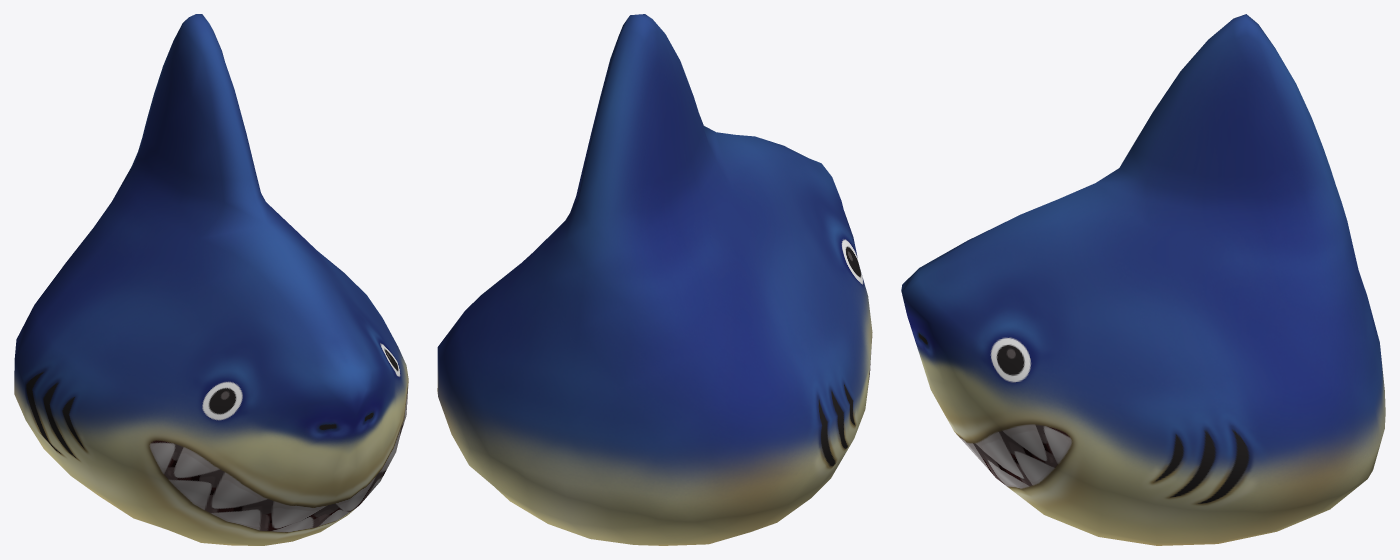
File: CRT0110002.FBX
The picture shows the model from 3 angles, left to right: view 1: azimuth 30°, elevation 25°; view 2: azimuth 150°, elevation 25°; view 3: azimuth 270°, elevation 25°; orthographic projection. The views are drawn at different scales.
Parts seen in each view (by area): view 1: smCRT0110002; view 2: smCRT0110002; view 3: smCRT0110002.
Part boxes in pixels (x1,y1,x2,y2): smCRT0110002: (14, 14, 408, 545); smCRT0110002: (437, 14, 872, 545); smCRT0110002: (901, 14, 1385, 545).
Bounding box in the file's own units: 0.1695 × 0.2313 × 0.1998.
Materials: 1 (1 with a texture image).
